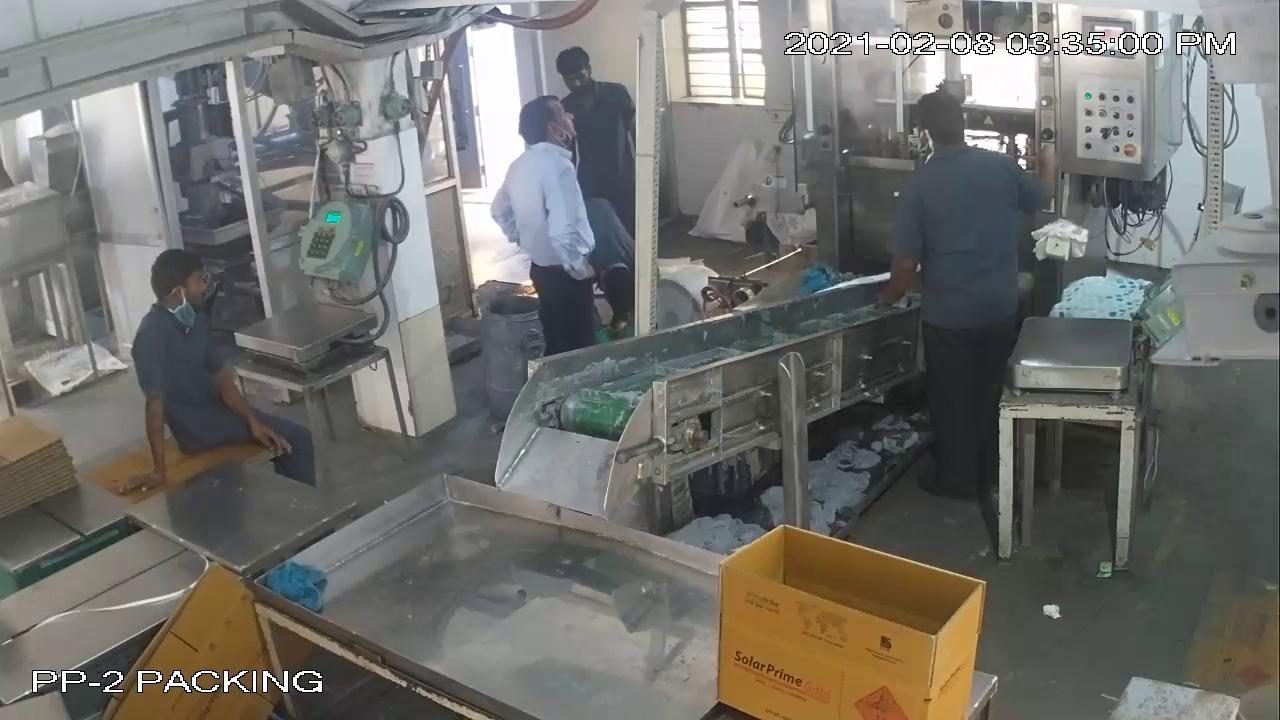NO-Gloves: (191, 327, 296, 465), (94, 371, 188, 510), (532, 171, 605, 299), (861, 228, 919, 317)
